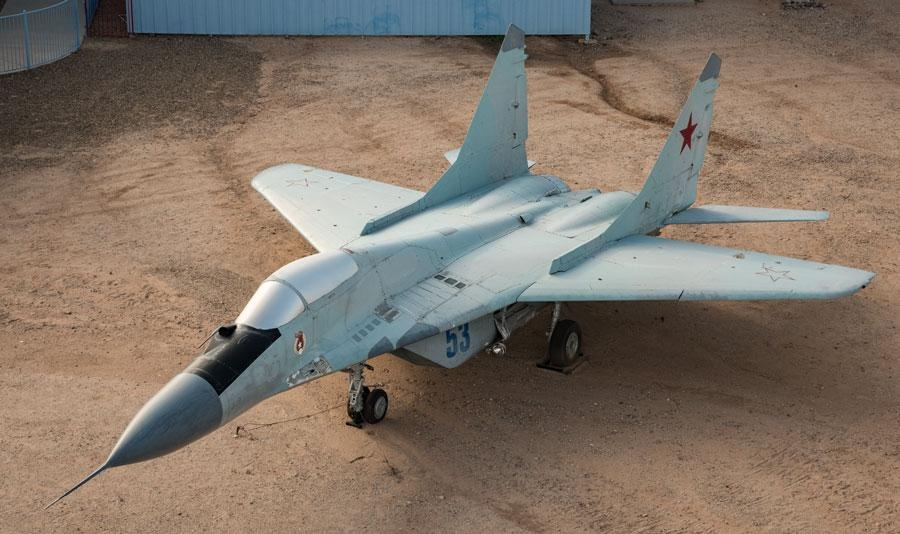aircraft: (73, 23, 888, 484)
